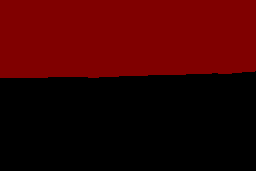Sky: (1, 1, 255, 78)
